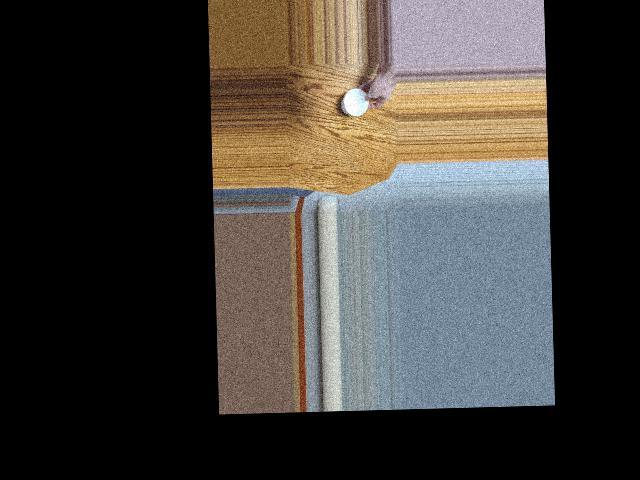cotage: (339, 88, 370, 121)
